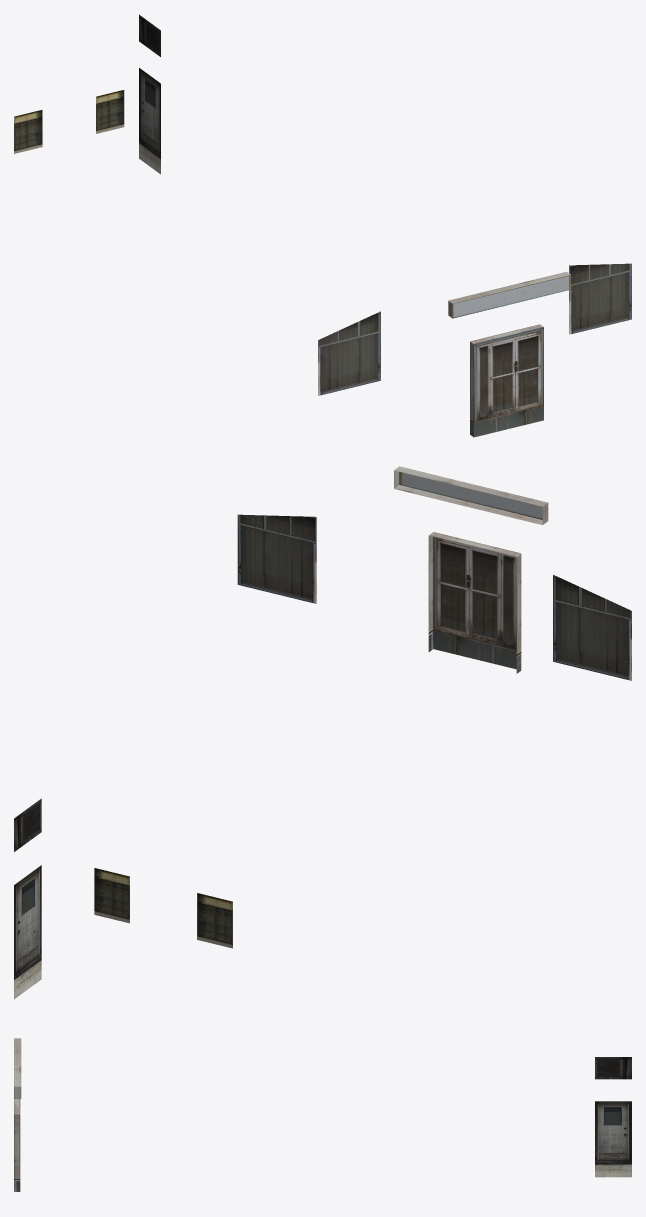
The model's file is rural_woodenbuilding_3_rural_facade_flr_2_0.glb.
The picture shows the model from 3 angles, top to bottom: view 1: azimuth 30°, elevation 25°; view 2: azimuth 150°, elevation 25°; view 3: azimuth 270°, elevation 25°; orthographic projection. The views are drawn at different scales.
Visible parts, largest first — view 1: Rural_WoodenBuilding_3_Rural_Facade_FLR_2_0; view 2: Rural_WoodenBuilding_3_Rural_Facade_FLR_2_0; view 3: Rural_WoodenBuilding_3_Rural_Facade_FLR_2_0.
Part boxes in pixels (left/top/right/bottom): Rural_WoodenBuilding_3_Rural_Facade_FLR_2_0: left=14, top=14, right=631, bottom=437; Rural_WoodenBuilding_3_Rural_Facade_FLR_2_0: left=14, top=466, right=631, bottom=999; Rural_WoodenBuilding_3_Rural_Facade_FLR_2_0: left=14, top=1038, right=631, bottom=1191.
Size of the model in its own units: 6.33 by 2.78 by 12.9.
Materials: 1 (1 with a texture image).
